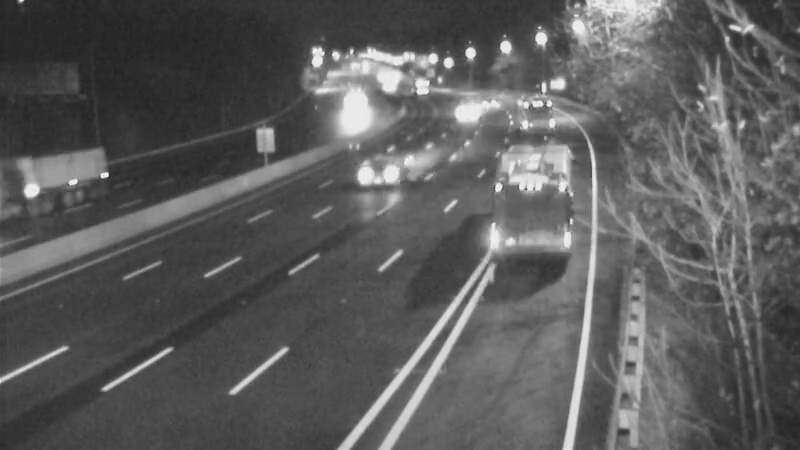vehicle: (339, 134, 419, 214), (479, 167, 559, 247), (7, 151, 87, 231), (395, 59, 445, 109), (509, 80, 559, 130), (466, 78, 516, 128), (442, 85, 492, 135), (329, 78, 379, 128)
